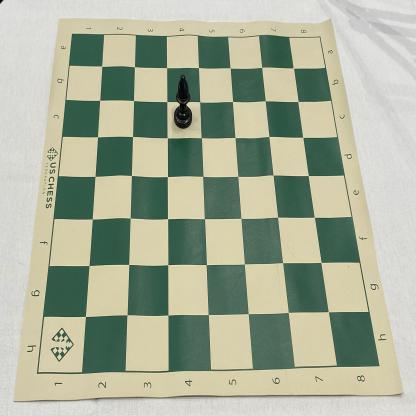black-bishop: (173, 73, 193, 129)
